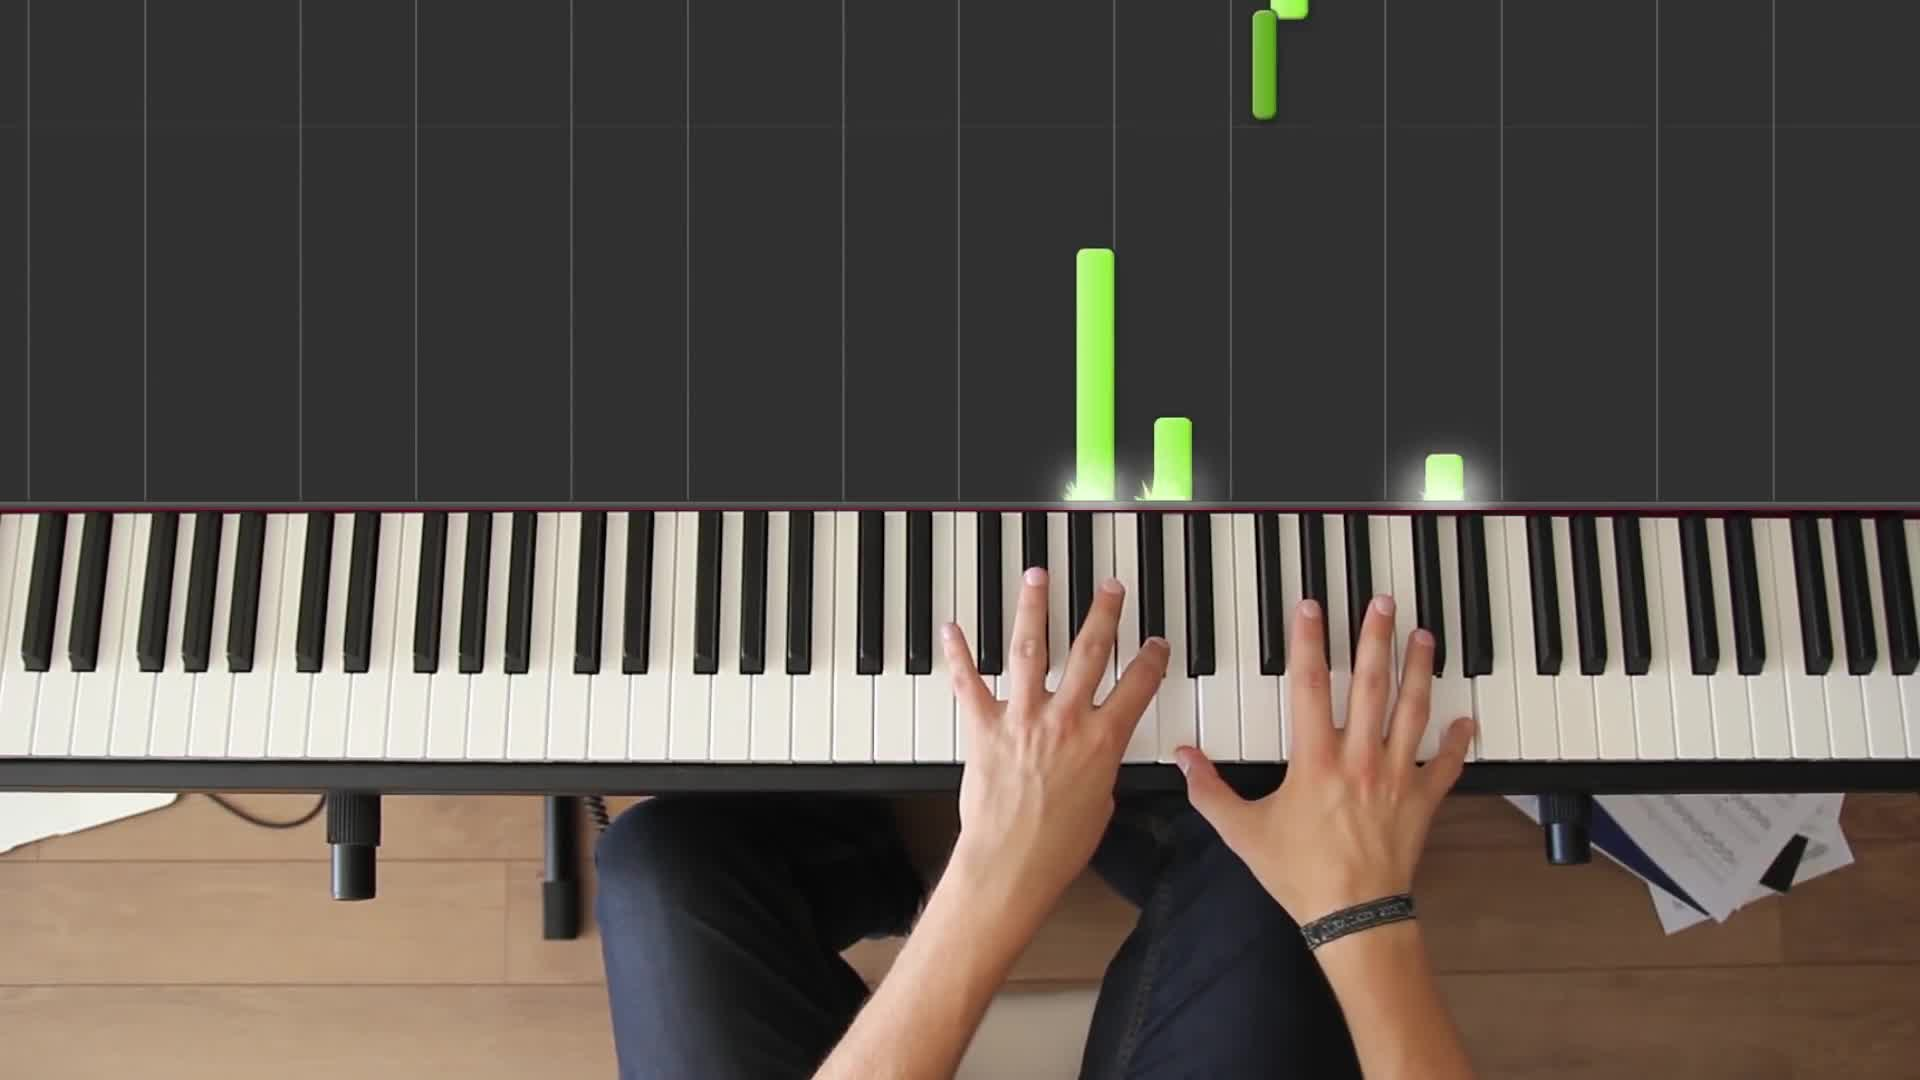left: (936, 568, 1170, 847)
right: (1174, 591, 1478, 889)
